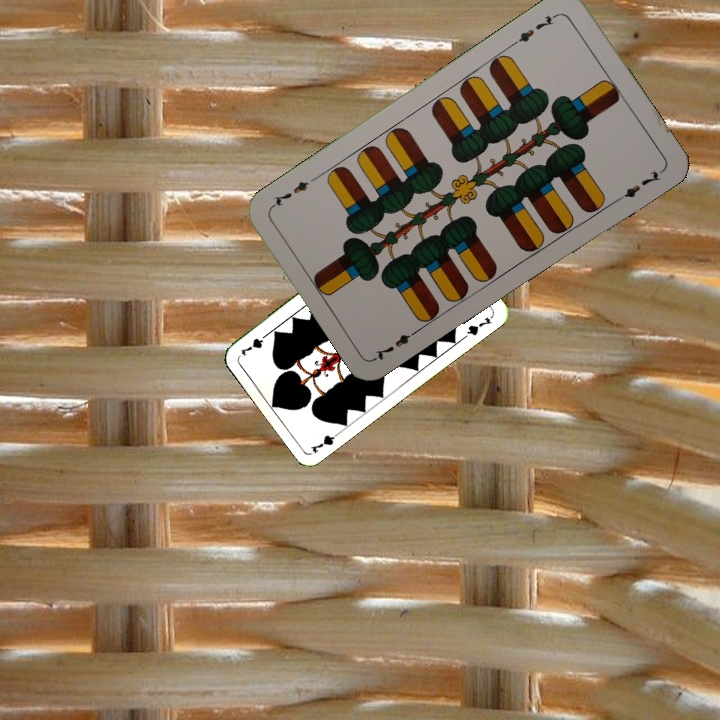E7: (509, 9, 561, 48), (371, 324, 423, 363)
G7: (307, 426, 345, 456)
